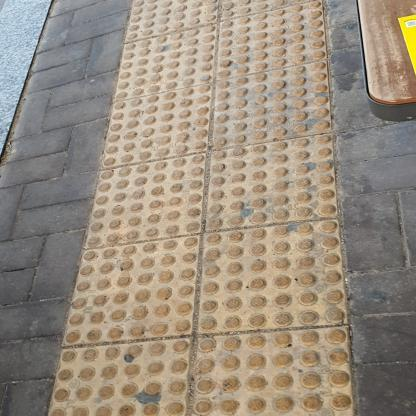podotacti: (37, 0, 363, 415)
